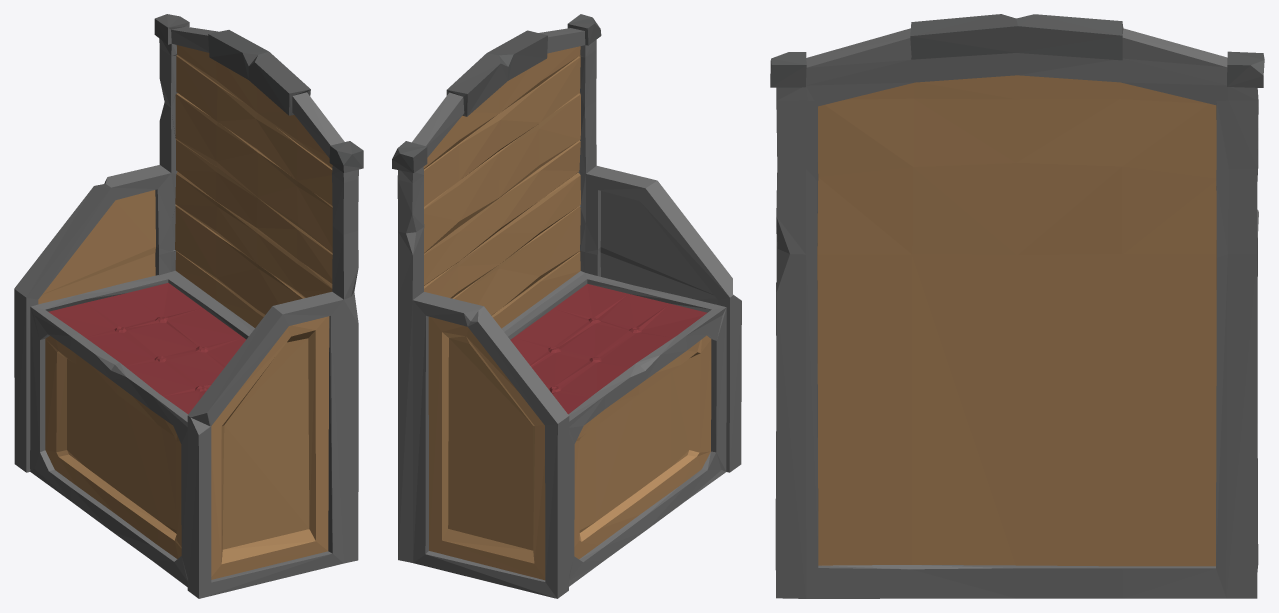
Rendered from SFFA_Weapon_Stand_005.fbx.
3 views of the same model, side by side, from view 1: azimuth 30°, elevation 25°; view 2: azimuth 150°, elevation 25°; view 3: azimuth 270°, elevation 25° (orthographic). The views are drawn at different scales.
Visible parts, largest first — view 1: SFFA_Weapon_Stand_005; view 2: SFFA_Weapon_Stand_005; view 3: SFFA_Weapon_Stand_005.
Boxes of the visible parts, <box> form: SFFA_Weapon_Stand_005: <box>14,14,363,598</box>; SFFA_Weapon_Stand_005: <box>392,14,741,598</box>; SFFA_Weapon_Stand_005: <box>770,14,1264,598</box>.
Bounding box in the file's own units: 94.68 × 243 × 189.
